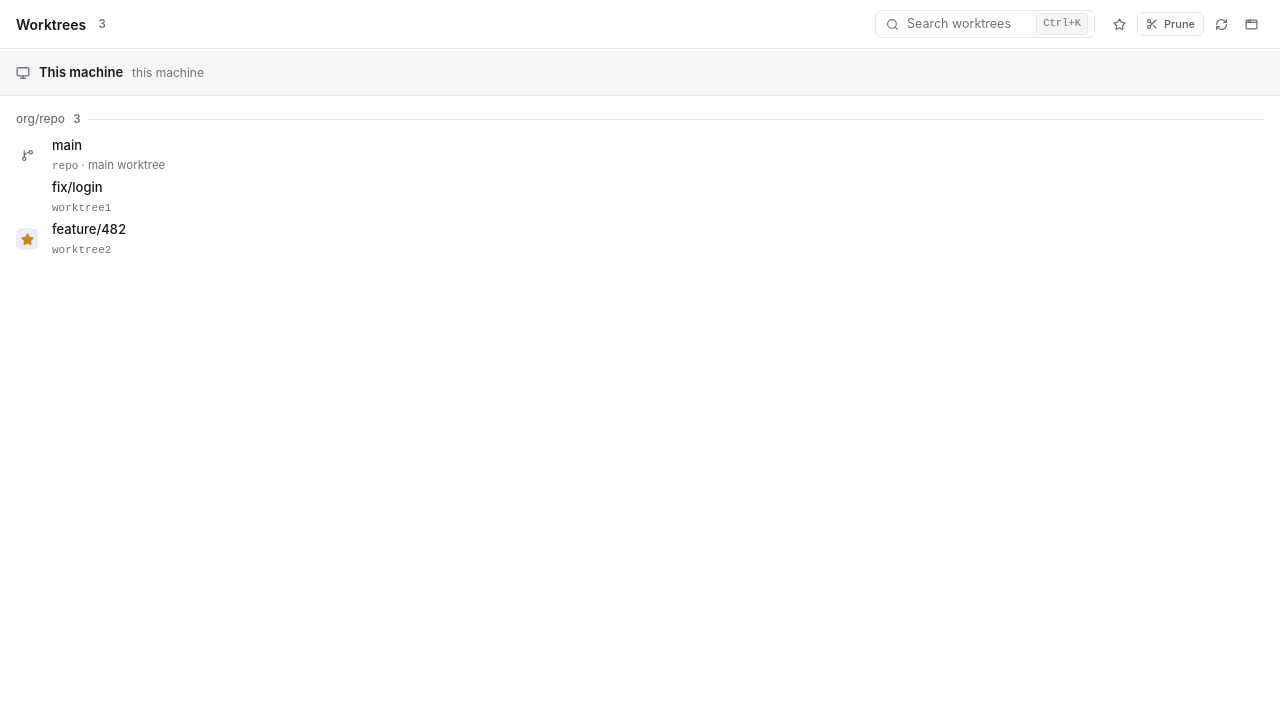
Scenario: WorktreeList (section host) › opens the prune dialog
The width and height of the screenshot is (1280, 720).
Step 1. Click the button "Prune" → (1170, 24), box [1137,12,1204,36]
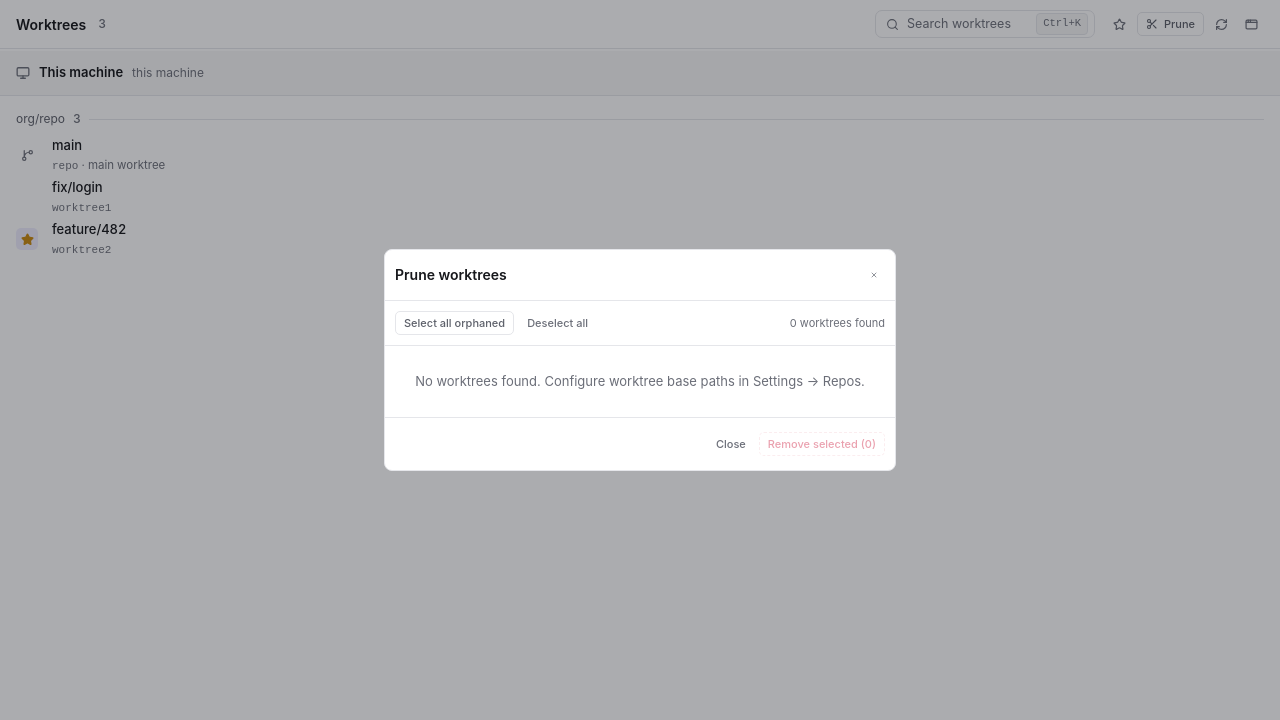
expect the heading "Prune worktrees" is shown: met, box [395,265,507,285]
